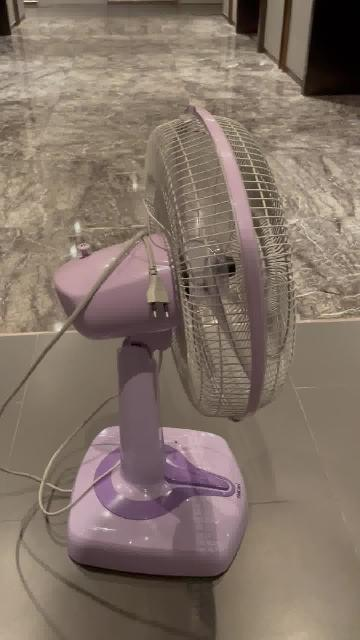Fan: (54, 105, 288, 580)
